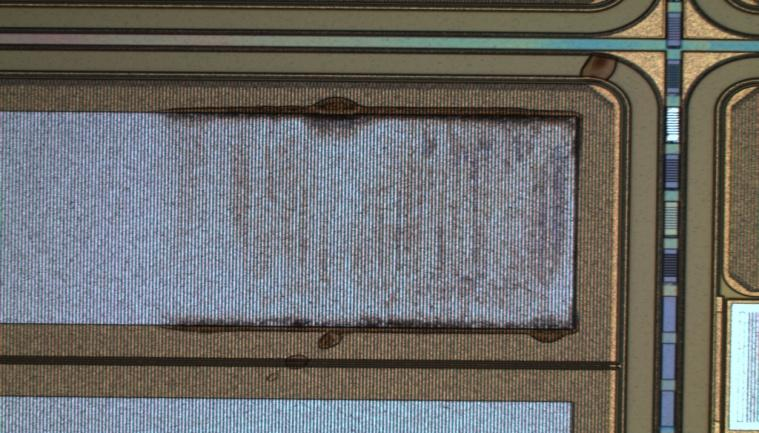SEZ BURNT: (152, 102, 583, 343)
